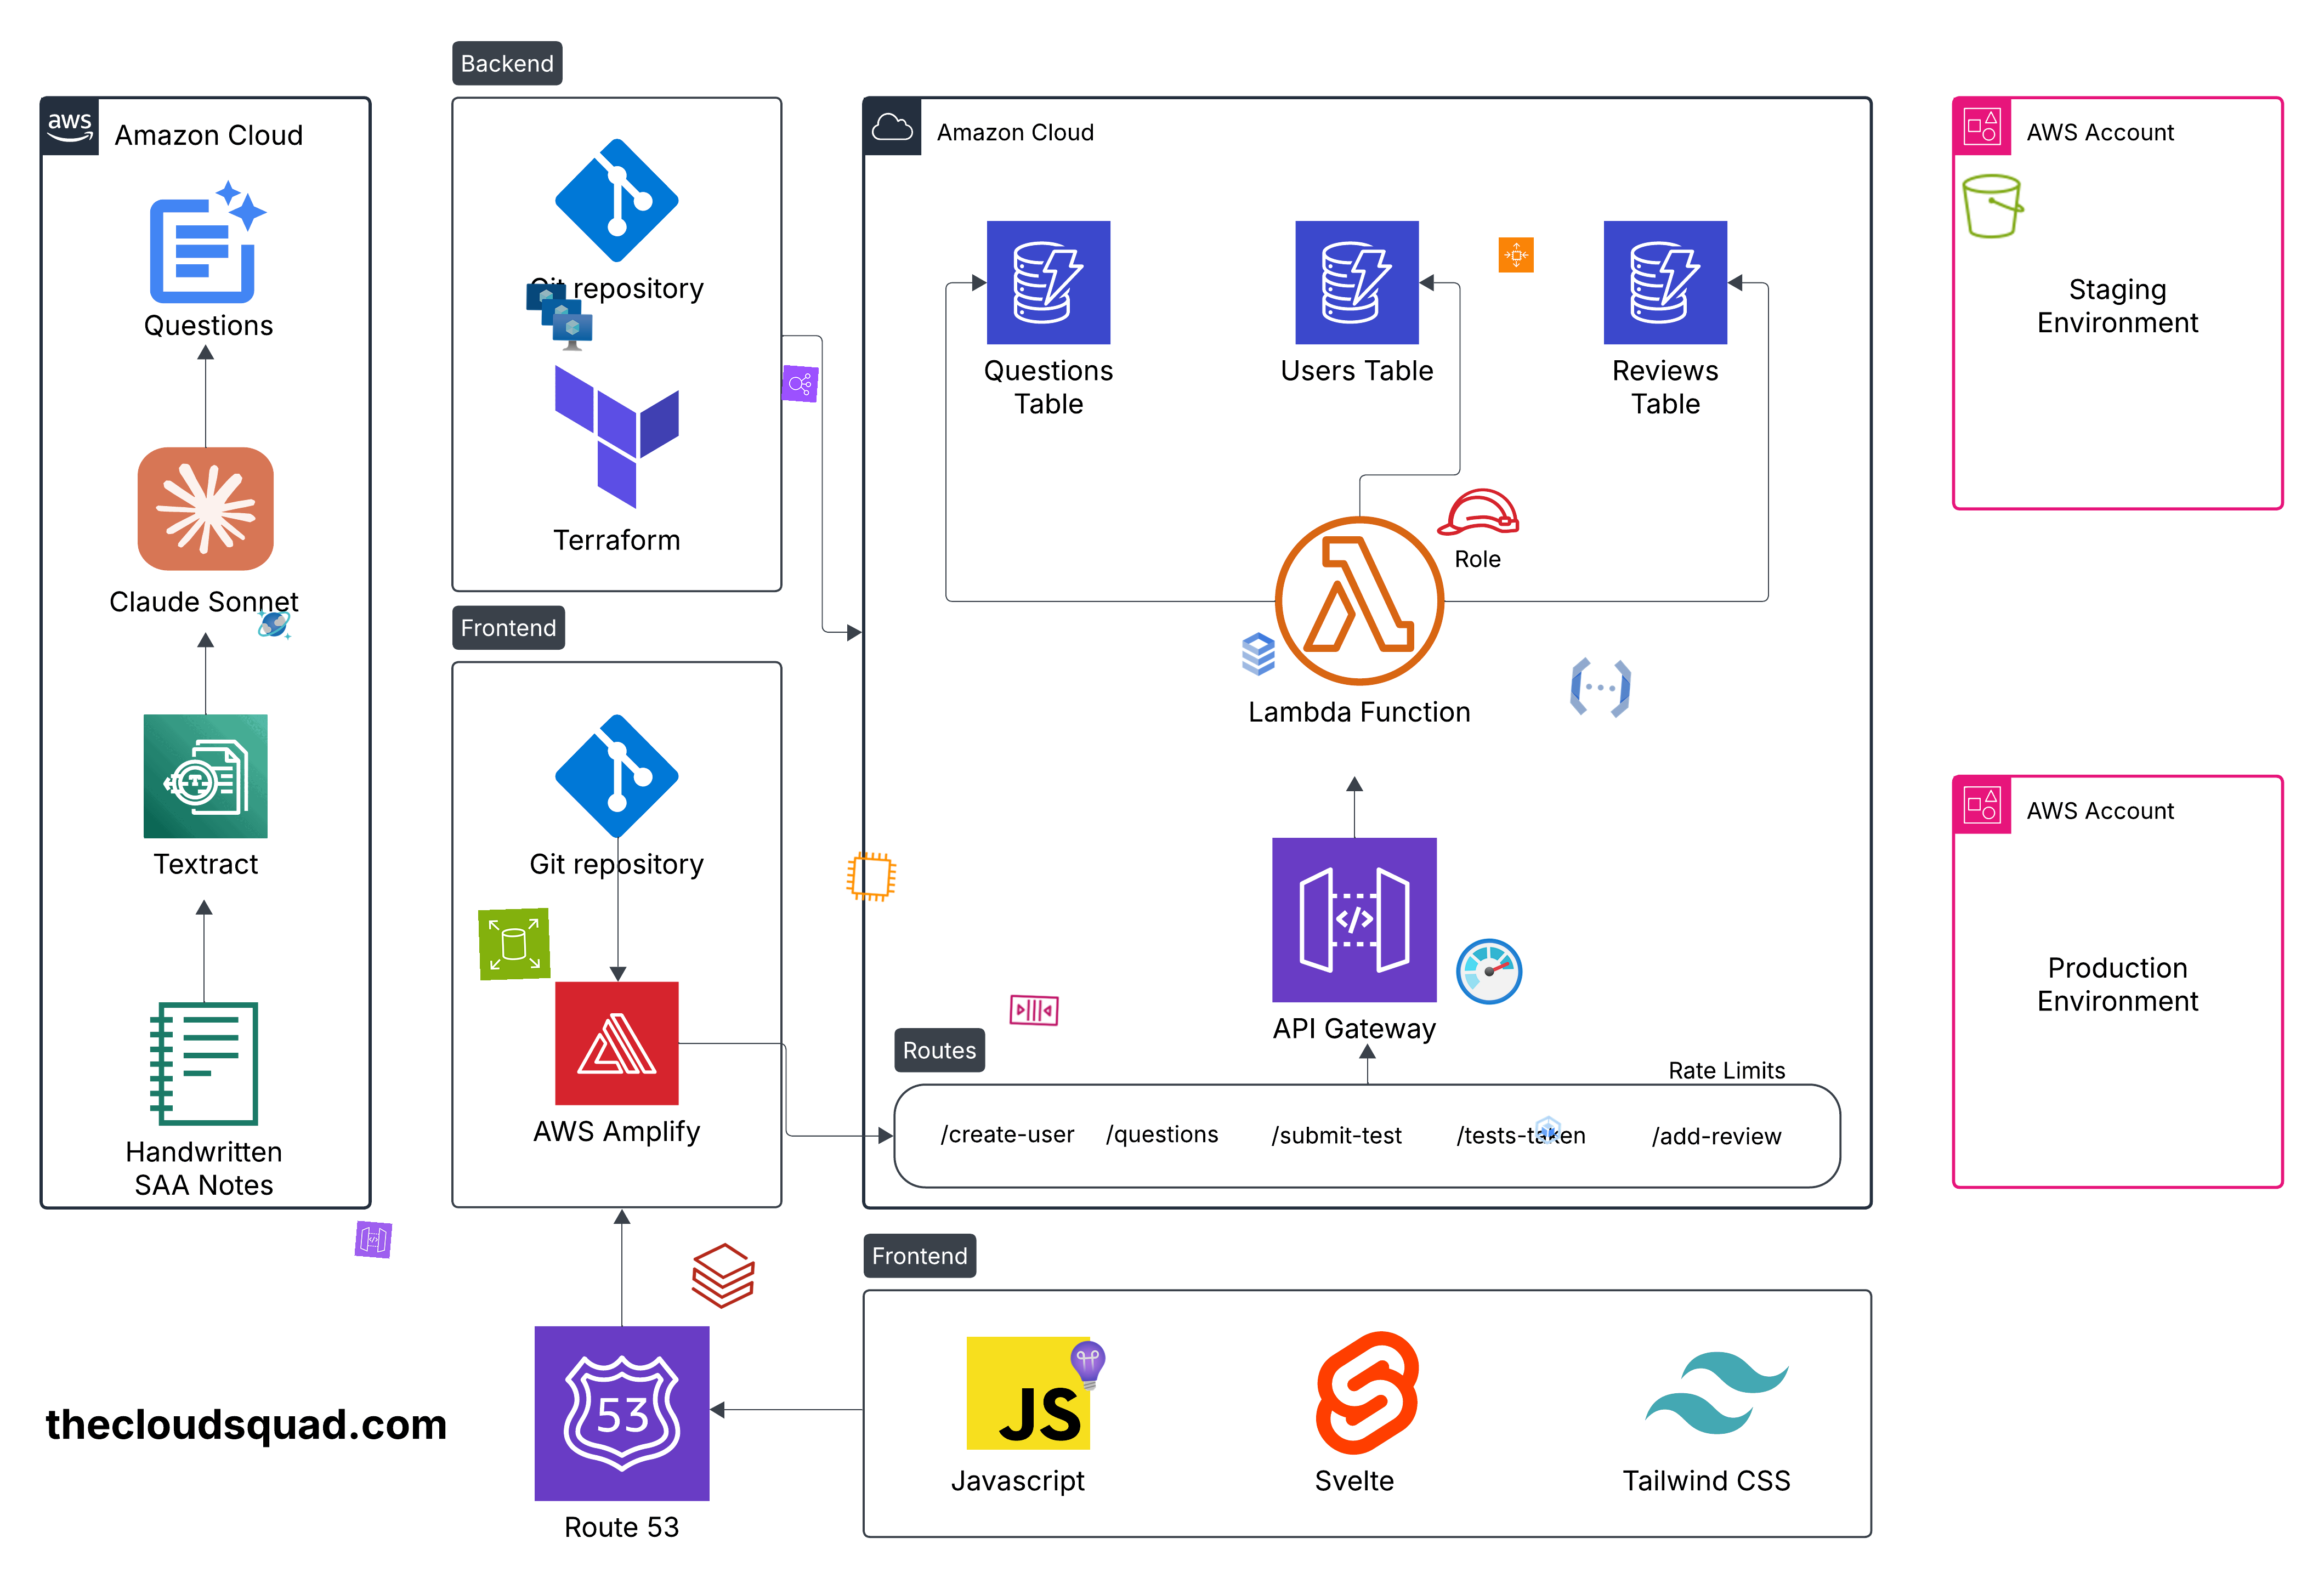aws_amazon_api_gateway: (354, 1220, 393, 1259)
aws_amazon_ec2_auto_scaling: (1498, 236, 1533, 273)
aws_amazon_elastic_block_store: (477, 907, 551, 981)
aws_ec2_instance: (843, 849, 900, 905)
aws_elastic_load_balancing: (782, 365, 819, 403)
aws_simple_queue_service_queue: (1007, 983, 1062, 1037)
aws_simple_storage_service_bucket: (1958, 171, 2028, 241)
azure_application_insights: (1060, 1338, 1116, 1393)
azure_cosmos_db: (255, 606, 292, 643)
azure_databricks: (687, 1238, 761, 1314)
azure_monitor: (1452, 935, 1526, 1009)
azure_vm_scale_sets: (523, 280, 595, 352)
gcp_cloud_functions: (1563, 650, 1639, 726)
gcp_cloud_sql: (1232, 627, 1285, 682)
gcp_google_kubernetes_engine: (1530, 1111, 1567, 1148)
